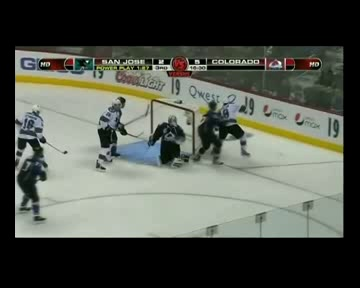normal: (14, 105, 58, 226), (191, 92, 254, 171), (87, 91, 135, 172), (149, 112, 191, 170)
